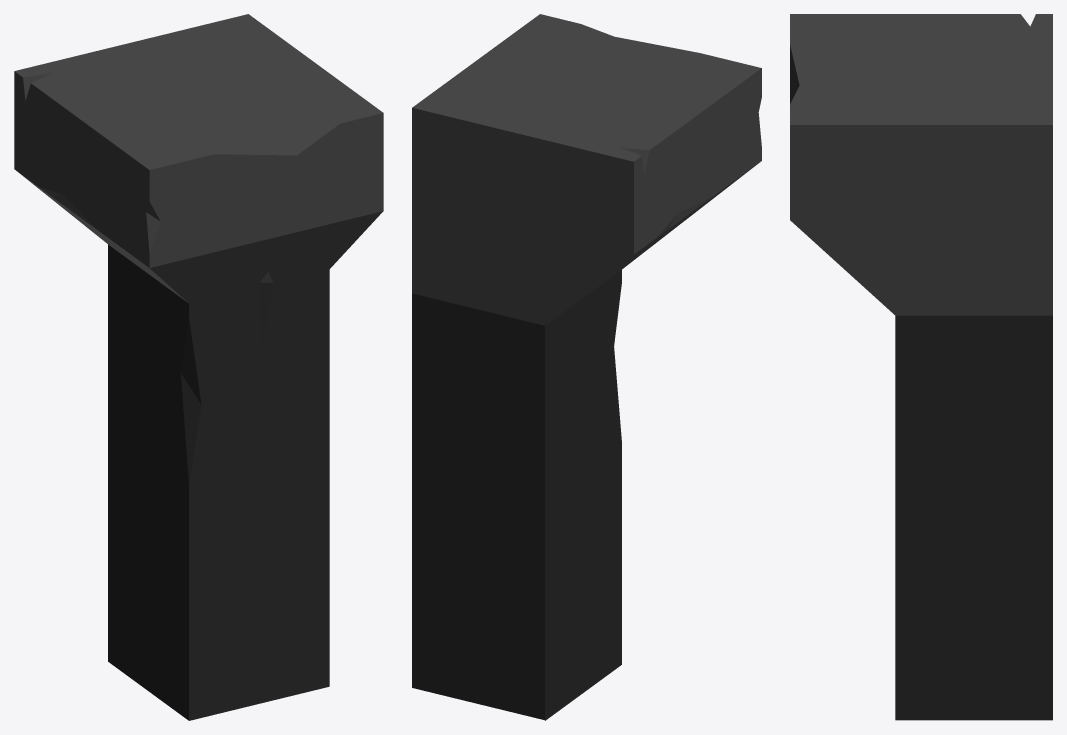
File: SW_ENV_RailTunnel_Wall_Ledge_B_Crnr_01.fbx
The picture shows the model from 3 angles, left to right: view 1: azimuth 30°, elevation 25°; view 2: azimuth 150°, elevation 25°; view 3: azimuth 270°, elevation 25°; orthographic projection. The views are drawn at different scales.
Visible parts, largest first — view 1: SW_ENV_RailTunnel_Wall_Ledge_B_Crnr_01; view 2: SW_ENV_RailTunnel_Wall_Ledge_B_Crnr_01; view 3: SW_ENV_RailTunnel_Wall_Ledge_B_Crnr_01.
Part boxes in pixels (left/top/right/bottom): SW_ENV_RailTunnel_Wall_Ledge_B_Crnr_01: left=14, top=14, right=383, bottom=720; SW_ENV_RailTunnel_Wall_Ledge_B_Crnr_01: left=412, top=14, right=761, bottom=720; SW_ENV_RailTunnel_Wall_Ledge_B_Crnr_01: left=790, top=14, right=1052, bottom=720.
Bounding box in the file's own units: 0.5 × 1.25 × 0.5.
